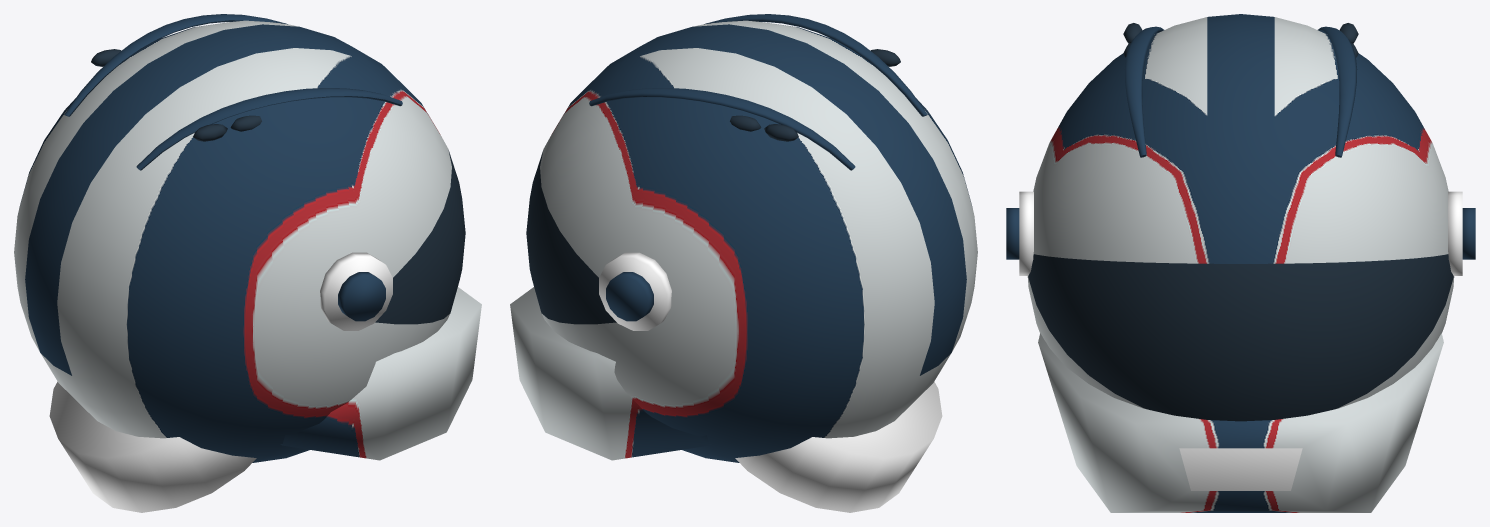
The model's file is Helmet_16_R_水銀・朱返し.glb.
The picture shows the model from 3 angles, left to right: view 1: azimuth 30°, elevation 25°; view 2: azimuth 150°, elevation 25°; view 3: azimuth 270°, elevation 25°; orthographic projection. The views are drawn at different scales.
Parts seen in each view (by area): view 1: Helmet_16_R, Visor; view 2: Helmet_16_R, Visor; view 3: Helmet_16_R, Visor.
Boxes of the visible parts, x1,y1,x2,y2 form: Helmet_16_R: (14,14,481,512); Visor: (91,49,465,324); Helmet_16_R: (510,14,977,512); Visor: (526,49,900,324); Helmet_16_R: (1006,14,1475,512); Visor: (1028,23,1453,421).
Size of the model in its own units: 0.301 by 0.305 by 0.289.
Materials: 3 (3 with a texture image).
